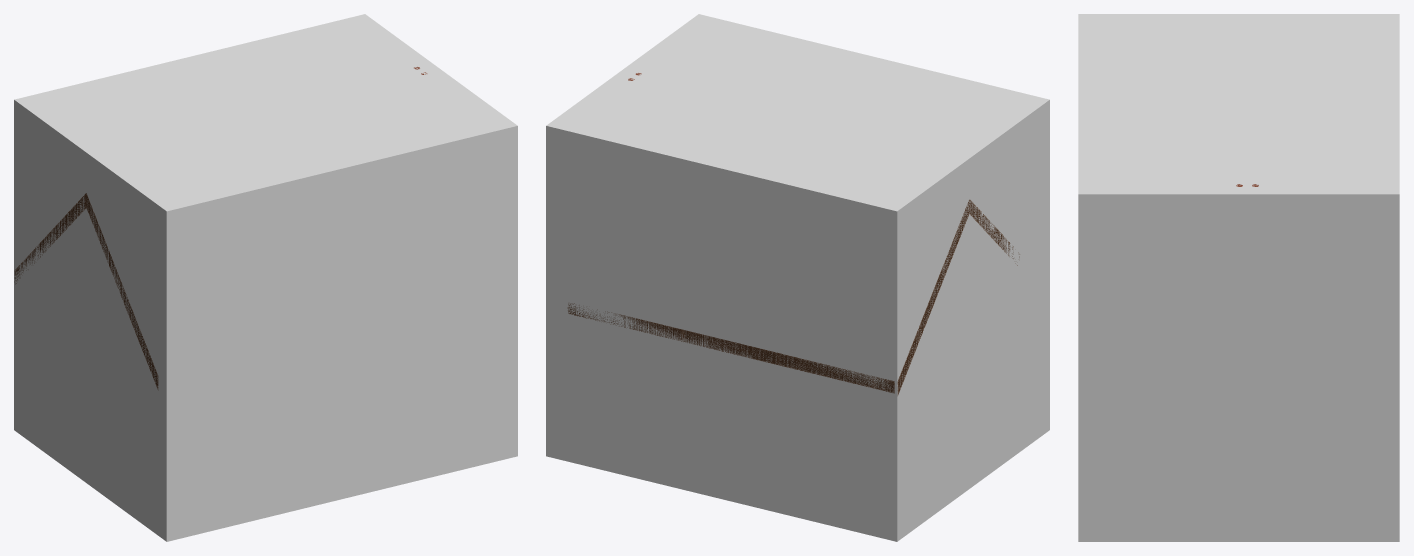
Rendered from house_cottage.glb.
3 views of the same model, side by side, from view 1: azimuth 30°, elevation 25°; view 2: azimuth 150°, elevation 25°; view 3: azimuth 270°, elevation 25° (orthographic). The views are drawn at different scales.
Parts seen in each view (by area): view 1: COL_house_cottage_static_00, house_cottage_static; view 2: COL_house_cottage_static_00, house_cottage_static; view 3: COL_house_cottage_static_00.
Part boxes in pixels (x1,y1,x2,y2): COL_house_cottage_static_00: [14, 14, 517, 541]; house_cottage_static: [14, 67, 427, 390]; COL_house_cottage_static_00: [546, 14, 1049, 541]; house_cottage_static: [567, 73, 1019, 395]; COL_house_cottage_static_00: [1078, 14, 1399, 541].
Size of the model in its own units: 7.36 by 6.62 by 5.55.
Materials: 7 (7 with a texture image).
